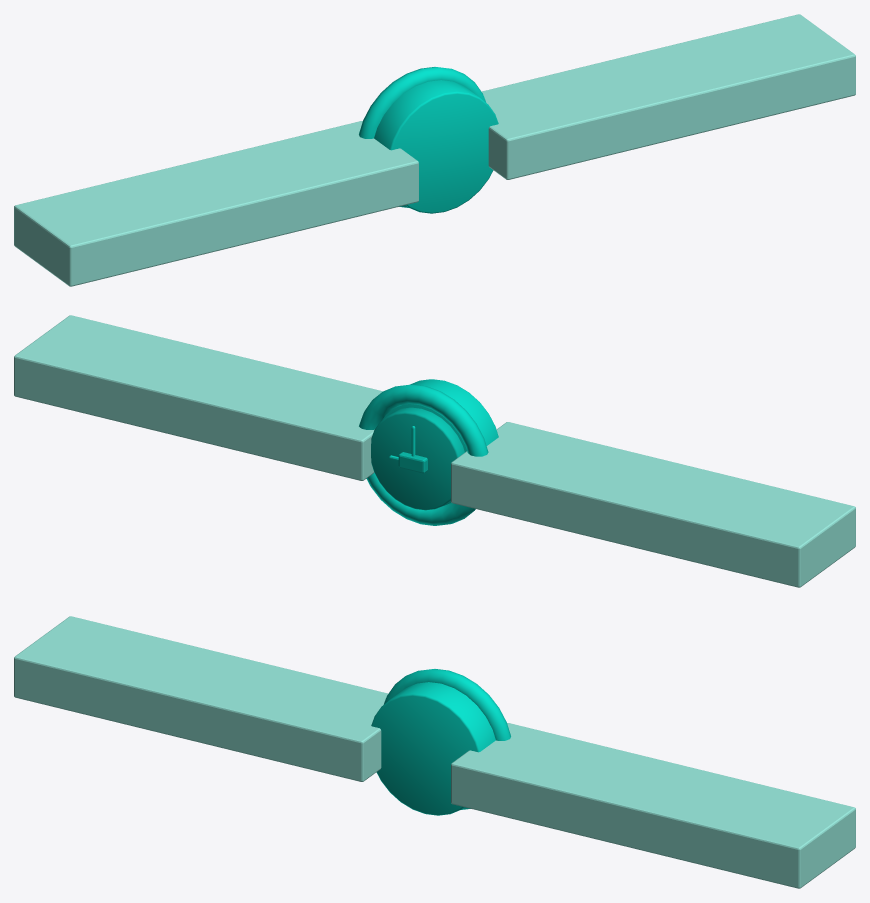
Rendered from VM-CAB-SH39854120.glb.
3 renders of one model, top to bottom at view 1: azimuth 30°, elevation 25°; view 2: azimuth 150°, elevation 25°; view 3: azimuth 330°, elevation 25°, orthographic.
Parts seen in each view (by area): view 1: Reloj POEDAGAR Cronógrafo de Cuero; view 2: Reloj POEDAGAR Cronógrafo de Cuero; view 3: Reloj POEDAGAR Cronógrafo de Cuero.
Boxes of the visible parts, x1,y1,x2,y2 form: Reloj POEDAGAR Cronógrafo de Cuero: [14, 14, 855, 286]; Reloj POEDAGAR Cronógrafo de Cuero: [14, 315, 855, 587]; Reloj POEDAGAR Cronógrafo de Cuero: [14, 616, 855, 888].
Size of the model in its own units: 0.3621 by 0.0603 by 0.0453.
